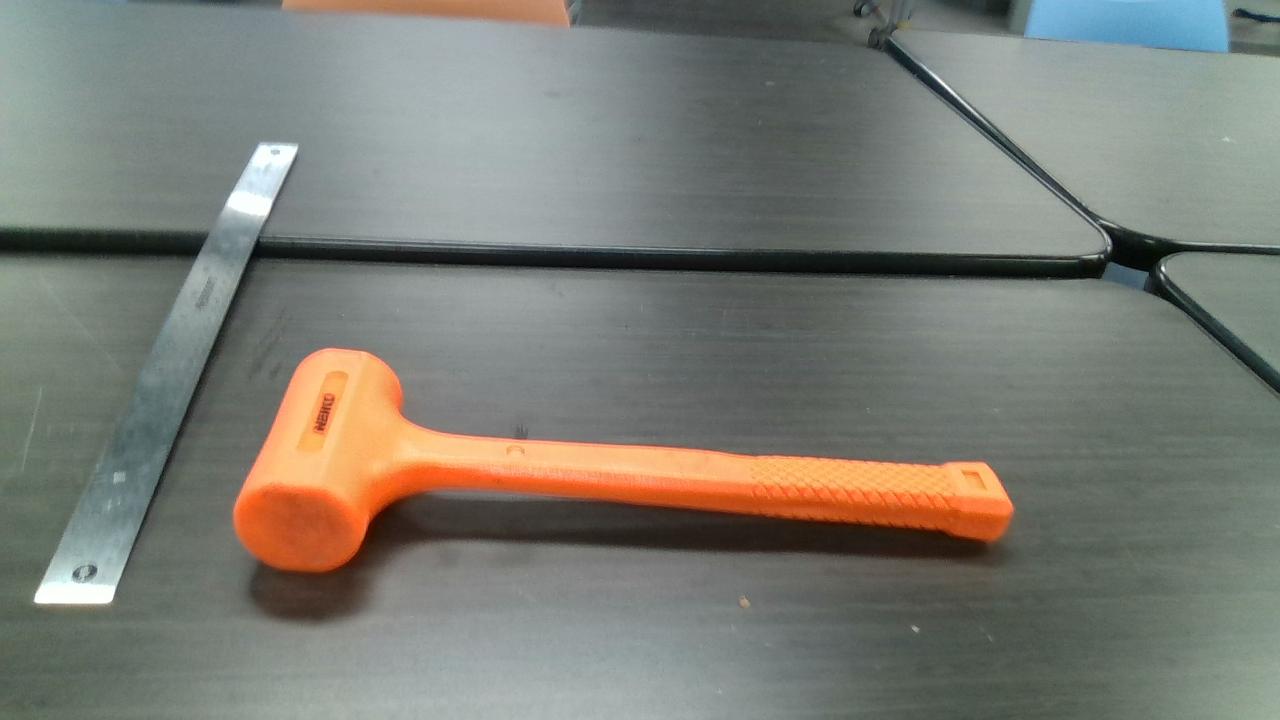Orange Hammer: (242, 347, 1010, 574)
